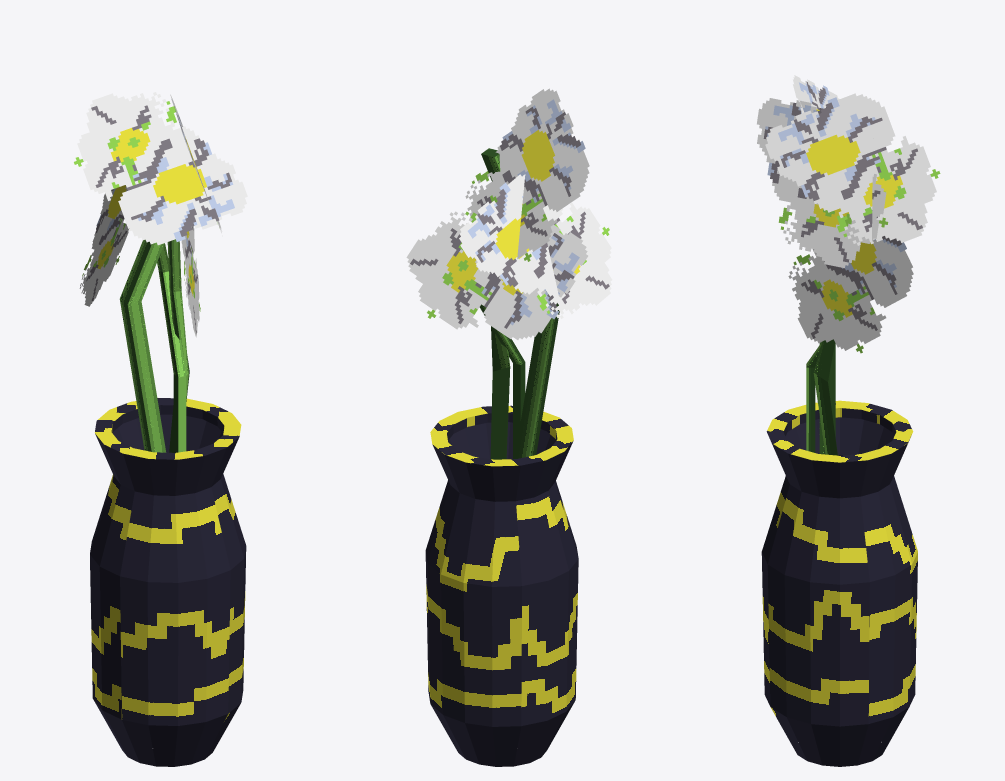
Rendered from largeplant.glb.
The picture shows the model from 3 angles, left to right: view 1: azimuth 30°, elevation 25°; view 2: azimuth 150°, elevation 25°; view 3: azimuth 270°, elevation 25°; orthographic projection. The views are drawn at different scales.
Parts seen in each view (by area): view 1: BézierCurve; view 2: BézierCurve; view 3: BézierCurve.
Boxes of the visible parts, bbox=[...] form: BézierCurve: bbox=[74, 92, 247, 766]; BézierCurve: bbox=[406, 88, 612, 766]; BézierCurve: bbox=[757, 75, 940, 766].
Size of the model in its own units: 6.83 by 18.93 by 7.14.
3 materials, 3 textured.
